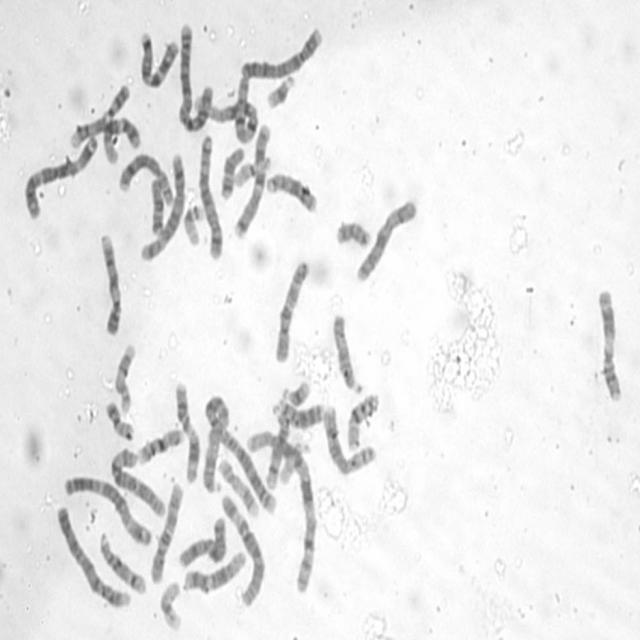A1: (243, 424, 318, 596), (193, 77, 260, 144)
A2: (198, 388, 278, 517), (175, 17, 213, 134)
A3: (21, 129, 101, 221), (62, 470, 154, 548)
B4: (54, 499, 132, 612), (238, 21, 325, 80)
B5: (138, 147, 188, 263), (195, 129, 225, 261)
C10: (272, 254, 311, 364), (148, 476, 186, 586)
C11: (594, 282, 624, 404), (172, 377, 201, 484)
C12: (180, 546, 248, 595), (102, 114, 143, 167)
C6: (219, 489, 266, 609), (107, 442, 168, 519)
C7: (230, 117, 273, 239), (137, 25, 180, 91)
C8: (321, 400, 378, 478), (116, 148, 175, 210)
C9: (67, 79, 132, 150), (97, 228, 125, 338)
D13: (262, 167, 320, 215), (270, 396, 325, 430)
D14: (96, 528, 148, 596), (262, 404, 292, 490)
D15: (330, 308, 366, 396)
E16: (343, 388, 381, 452), (134, 422, 186, 466)
E17: (216, 453, 260, 517), (111, 338, 138, 416)
E18: (218, 141, 245, 201), (148, 174, 166, 238)
F19: (156, 576, 184, 633), (181, 200, 205, 247)
F20: (102, 396, 136, 442), (333, 216, 372, 250)
G21: (263, 68, 298, 111), (280, 374, 312, 408)
G22: (277, 437, 312, 486), (231, 152, 273, 189)
X: (352, 193, 420, 284), (176, 510, 228, 571)
